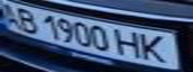0: (90, 24, 115, 53), (72, 20, 93, 48)
1: (36, 12, 60, 39)
9: (54, 16, 75, 44)
A: (0, 1, 24, 28)
B: (12, 6, 42, 34)
H: (115, 28, 145, 60)
K: (136, 32, 175, 65)
